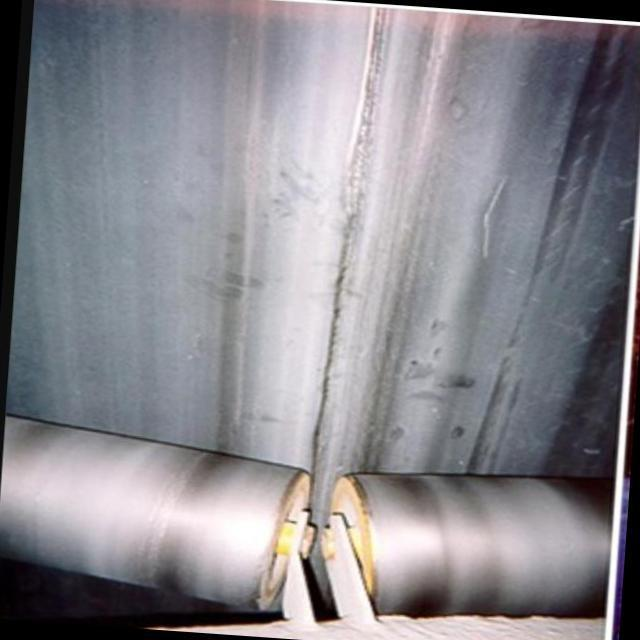Tear: (302, 6, 400, 473)
